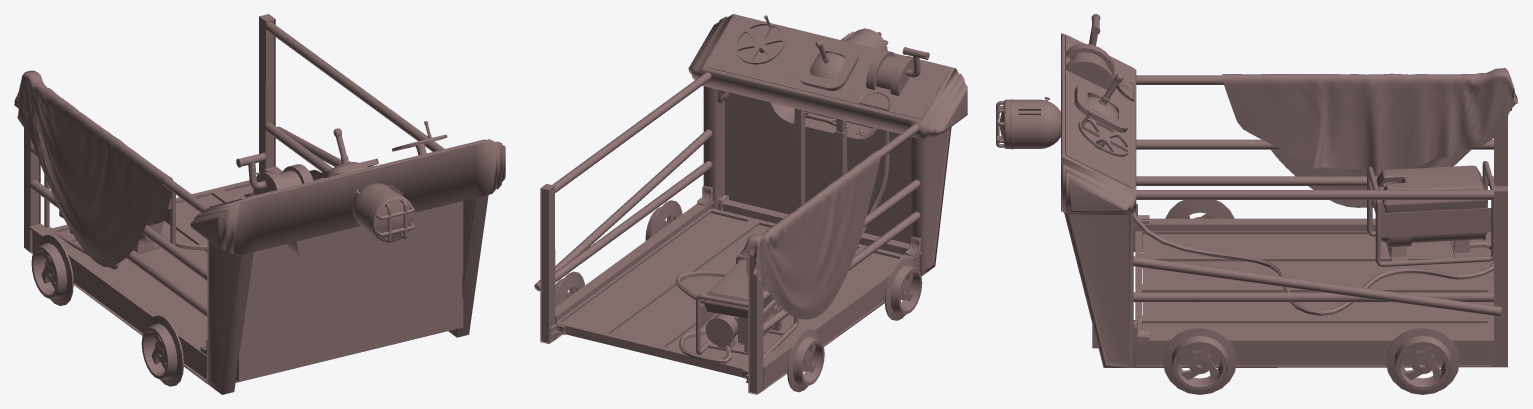
Rendered from cart fixed.fbx.
3 views of the same model, side by side, from view 1: azimuth 30°, elevation 25°; view 2: azimuth 150°, elevation 25°; view 3: azimuth 270°, elevation 25° (orthographic). The views are drawn at different scales.
Visible parts, largest first — view 1: Shield_low, DahbordFrame_low, cloth_low, Structure_low, Drawer_low, Lamp_low, pCube20, Wheels_low, Wheels_low1, pCube21, Engine_low, Frame_low (+5 smaller); view 2: Structure_low, DahbordFrame_low, Shield_low, cloth_low, Dashboard_low, Frame_low, Engine_low, pCube19, pCube22, Wheels_low1, Wheels_low, pCube20 (+10 smaller); view 3: Structure_low, cloth_low, DahbordFrame_low, Engine_low, Frame_low, pCube21, pCube20, Wheels_low1, Dashboard_low, pCube22, pCube19, Wheels_low (+4 smaller).
Boxes of the visible parts, box(x1,y1,x2,y2) form: Shield_low: box(235, 201, 463, 381); DahbordFrame_low: box(190, 139, 505, 394); cloth_low: box(14, 70, 172, 267); Structure_low: box(24, 14, 444, 383); Drawer_low: box(287, 209, 427, 265); Lamp_low: box(352, 183, 414, 242); pCube20: box(58, 229, 207, 343); Wheels_low: box(31, 169, 321, 305); Wheels_low1: box(141, 315, 183, 386); pCube21: box(144, 221, 207, 299); Engine_low: box(44, 174, 207, 269); Frame_low: box(51, 180, 250, 304); Structure_low: box(534, 72, 921, 394); DahbordFrame_low: box(688, 14, 967, 275); Shield_low: box(725, 92, 911, 243); cloth_low: box(740, 150, 880, 319); Dashboard_low: box(706, 16, 950, 119); Frame_low: box(555, 208, 903, 377); Engine_low: box(675, 130, 889, 363); pCube19: box(562, 213, 746, 330); pCube22: box(610, 225, 769, 343); Wheels_low1: box(645, 200, 922, 320); Wheels_low: box(555, 271, 824, 392); pCube20: box(724, 252, 897, 367); Structure_low: box(1133, 75, 1507, 367); cloth_low: box(1222, 68, 1518, 207); DahbordFrame_low: box(1061, 33, 1136, 367); Engine_low: box(1133, 161, 1494, 315); Frame_low: box(1135, 231, 1493, 334); pCube21: box(1142, 261, 1487, 284); pCube20: box(1142, 234, 1487, 253); Wheels_low1: box(1163, 200, 1236, 394); Dashboard_low: box(1065, 35, 1133, 188); pCube22: box(1142, 302, 1487, 315); pCube19: box(1142, 323, 1487, 334); Wheels_low: box(1386, 327, 1459, 394).
Bounding box in the file's own units: 1.59 × 1.36 × 2.47.
